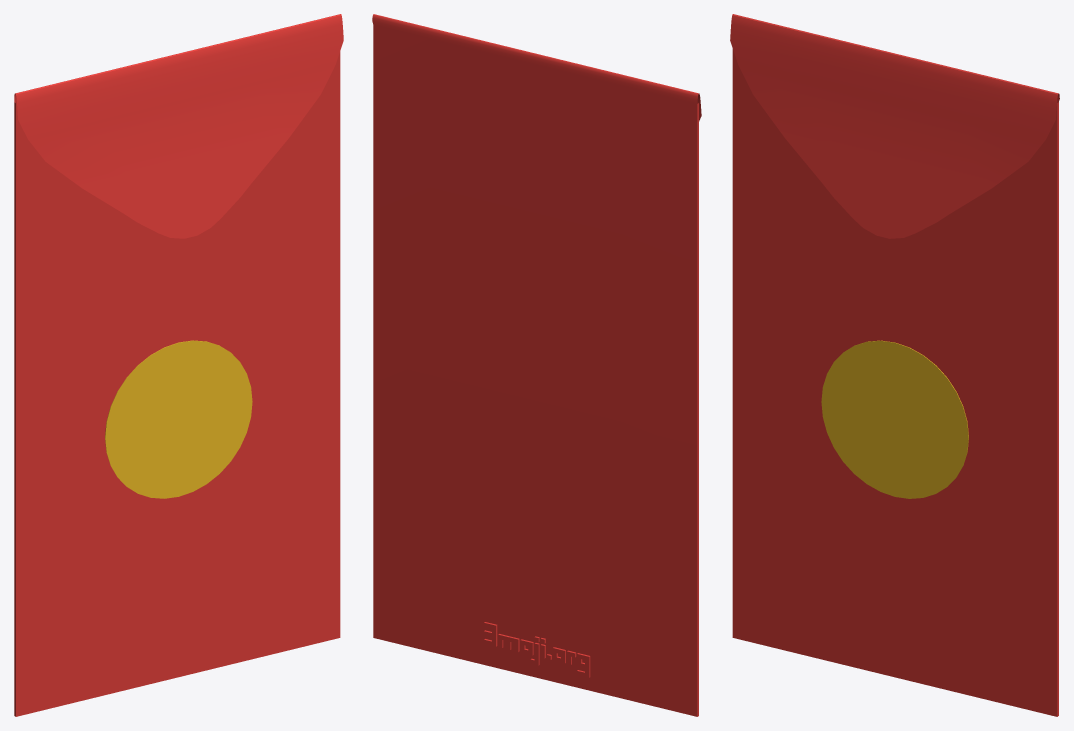
File: red_envelope.fbx
3 renders of one model, left to right at view 1: azimuth 30°, elevation 25°; view 2: azimuth 150°, elevation 25°; view 3: azimuth 330°, elevation 25°, orthographic.
Parts seen in each view (by area): view 1: Cube.905; view 2: Cube.905; view 3: Cube.905.
Boxes of the visible parts, bbox=[...] form: Cube.905: bbox=[14, 14, 343, 716]; Cube.905: bbox=[372, 14, 701, 716]; Cube.905: bbox=[730, 14, 1059, 716].
Bounding box in the file's own units: 127 × 233 × 10.15.
Materials: 1 (1 with a texture image).
